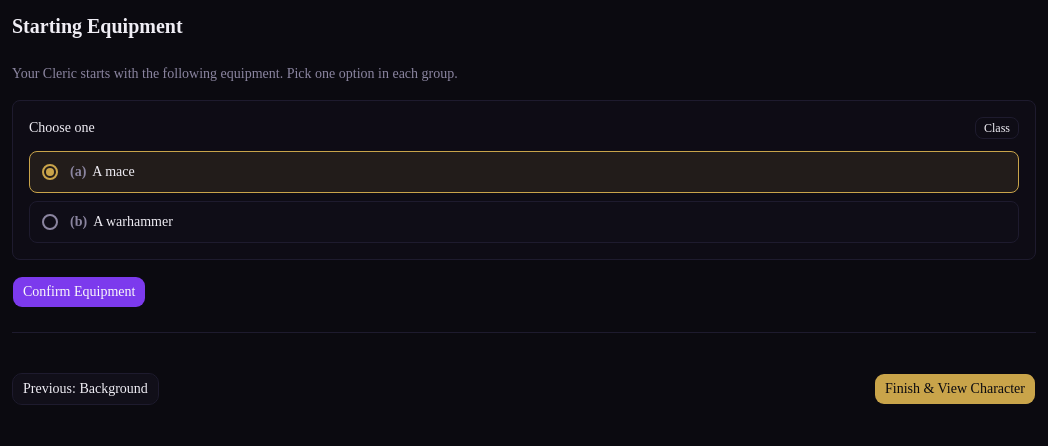
Test: EquipmentStepClient › surfaces an error and stays unconfirmed when a grant fails
The image size is (1048, 446).
Click the button "Confirm Equipment": [79, 292] box [12,276,146,308]
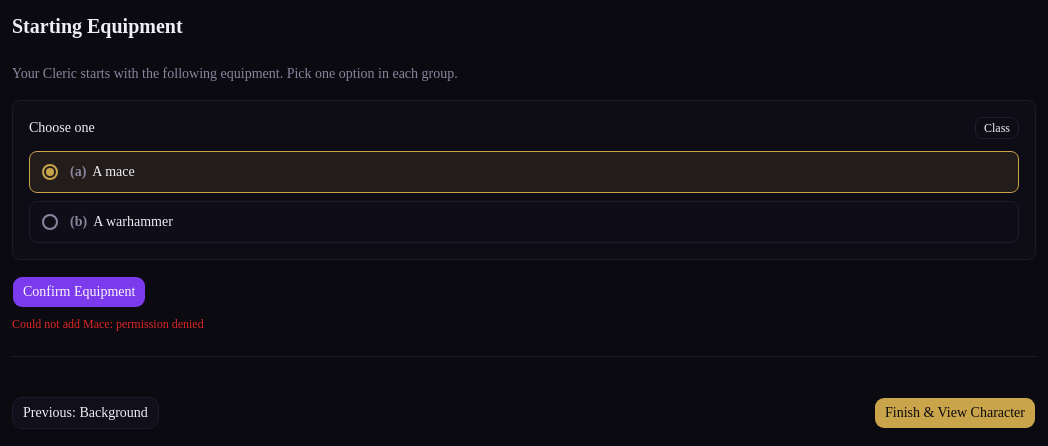
Now the message shows "Could not add", box [12,317,204,331]
